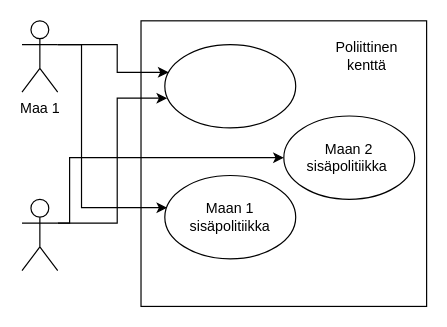
Some shapes in this 447 by 327 pixel diagram are drawn without their labels. Each missing label, with the box of its shape:
Kansainväliset suhteet: (164, 43, 296, 128)
Maa 2: (21, 198, 58, 271)
